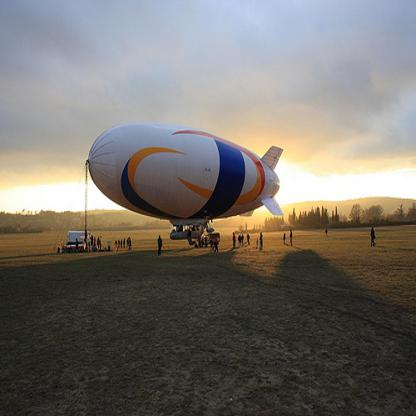Airship: (85, 122, 291, 230)
